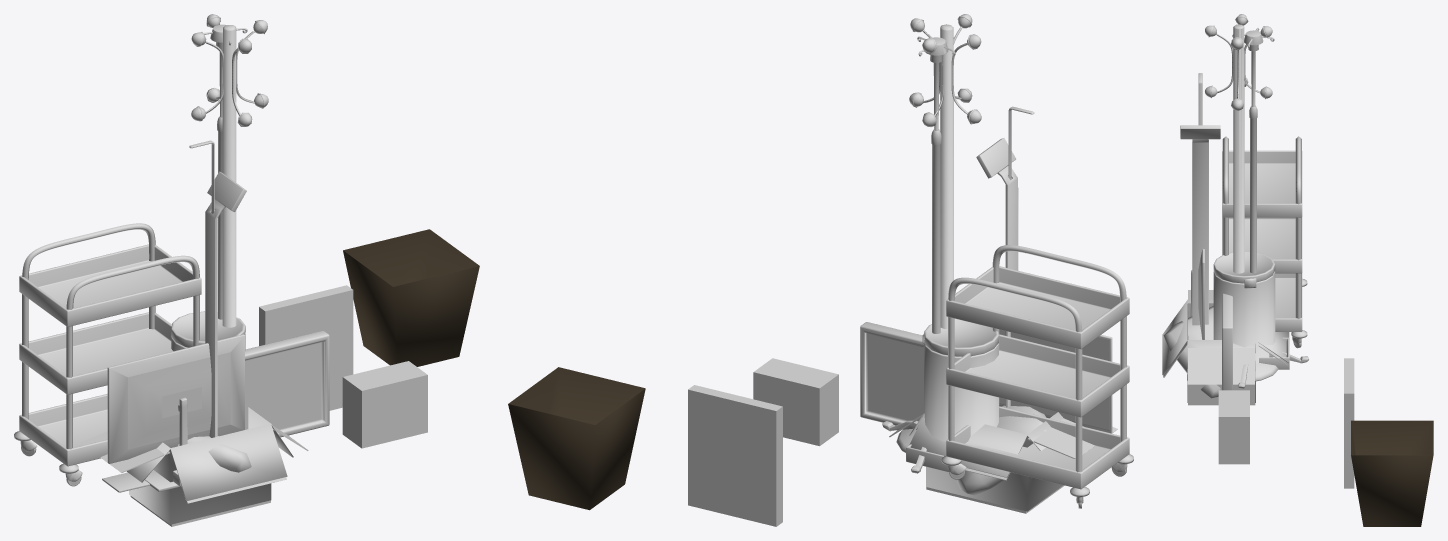
The model's file is Props.fbx.
3 renders of one model, left to right at view 1: azimuth 30°, elevation 25°; view 2: azimuth 150°, elevation 25°; view 3: azimuth 270°, elevation 25°, orthographic. The views are drawn at different scales.
Visible parts, largest first — view 1: Trolley, Bin, Computer, CardboardBox.001, OptometricPanel, ECGMonitor, RackCoat, Negatoscope, Scale, CardboardBox, BinCircular, SueroPalo (+2 smaller); view 2: Trolley, Bin, Negatoscope, OptometricPanel, BinCircular, RackCoat, ECGMonitor, CardboardBox.001, SueroPalo, Scale, Computer, CardboardBox (+1 smaller); view 3: Trolley, Bin, BinCircular, RackCoat, Scale, CardboardBox, ECGMonitor, SueroPalo, CardboardBox.001, Negatoscope, Pillow, OptometricPanel (+2 smaller).
Part boxes in pixels (x1,y1,x2,y2): Trolley: [14, 223, 201, 486]; Bin: [343, 229, 479, 366]; Computer: [107, 334, 244, 491]; CardboardBox.001: [127, 407, 293, 524]; OptometricPanel: [245, 330, 329, 437]; ECGMonitor: [342, 361, 427, 448]; RackCoat: [191, 14, 268, 327]; Negatoscope: [259, 285, 353, 410]; Scale: [173, 140, 246, 487]; CardboardBox: [80, 426, 308, 526]; BinCircular: [171, 311, 245, 351]; SueroPalo: [203, 24, 247, 319]; Trolley: [941, 245, 1133, 508]; Bin: [508, 367, 645, 510]; Negatoscope: [688, 385, 782, 526]; OptometricPanel: [860, 322, 962, 425]; BinCircular: [922, 318, 998, 441]; RackCoat: [896, 14, 981, 452]; ECGMonitor: [753, 358, 838, 446]; CardboardBox.001: [905, 412, 1063, 511]; SueroPalo: [882, 36, 955, 473]; Scale: [976, 106, 1034, 407]; Computer: [999, 329, 1112, 433]; CardboardBox: [889, 413, 1117, 513]; Trolley: [1222, 136, 1307, 348]; Bin: [1351, 420, 1433, 526]; BinCircular: [1213, 251, 1275, 363]; RackCoat: [1205, 14, 1278, 381]; Scale: [1180, 73, 1220, 325]; CardboardBox: [1163, 290, 1287, 405]; ECGMonitor: [1218, 390, 1249, 464]; SueroPalo: [1232, 28, 1308, 388]; CardboardBox.001: [1162, 299, 1289, 402]; Negatoscope: [1344, 358, 1354, 488]; Pillow: [1163, 306, 1220, 398]; OptometricPanel: [1222, 293, 1232, 390].
Size of the model in its own units: 2.25 by 2.04 by 1.3.
